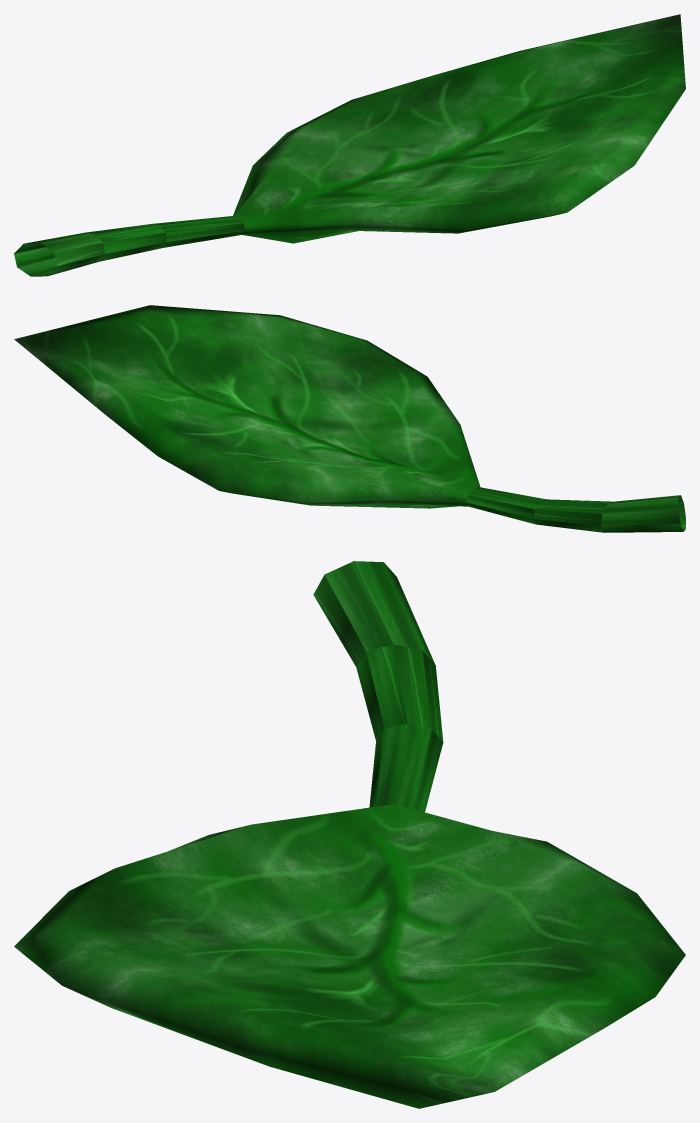
The model's file is leaf_2.FBX.
3 views of the same model, one above another, from view 1: azimuth 30°, elevation 25°; view 2: azimuth 150°, elevation 25°; view 3: azimuth 270°, elevation 25° (orthographic). The views are drawn at different scales.
Parts seen in each view (by area): view 1: Cylinder002; view 2: Cylinder002; view 3: Cylinder002.
Part boxes in pixels (box(x1,y1,x2,y2)): Cylinder002: box(14, 14, 685, 276); Cylinder002: box(14, 305, 685, 532); Cylinder002: box(14, 561, 685, 1108).
Bounding box in the file's own units: 94.6 × 13.6 × 44.44.
Materials: 1 (1 with a texture image).
